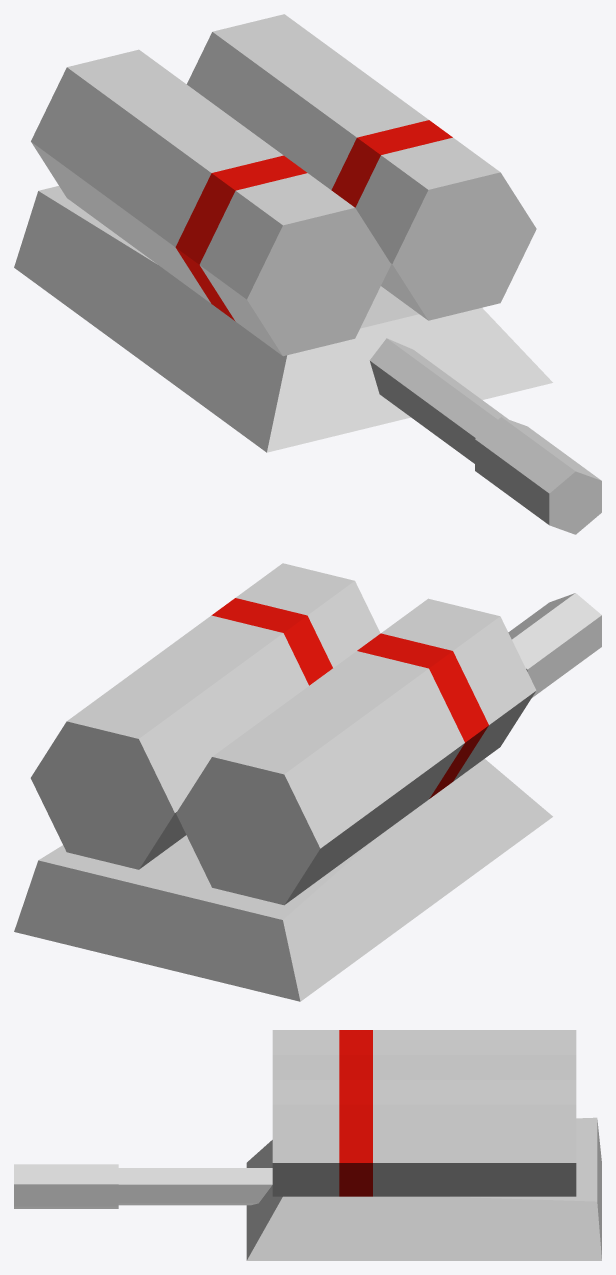
File: TurretFlamer.fbx
3 renders of one model, top to bottom at view 1: azimuth 30°, elevation 25°; view 2: azimuth 150°, elevation 25°; view 3: azimuth 270°, elevation 25°, orthographic. The views are drawn at different scales.
Visible parts, largest first — view 1: TurretFlamer; view 2: TurretFlamer; view 3: TurretFlamer.
Boxes of the visible parts, left/top/right/bottom form: TurretFlamer: left=14, top=14, right=601, bottom=534; TurretFlamer: left=14, top=563, right=601, bottom=1001; TurretFlamer: left=14, top=1030, right=601, bottom=1260.
Bounding box in the file's own units: 17.12 × 11.6 × 42.81.
